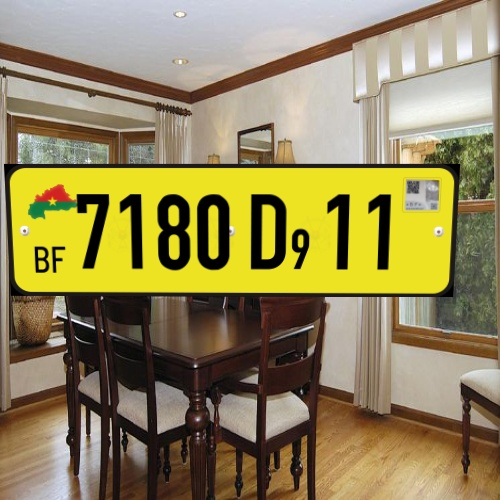plate: (5, 148, 463, 312)
